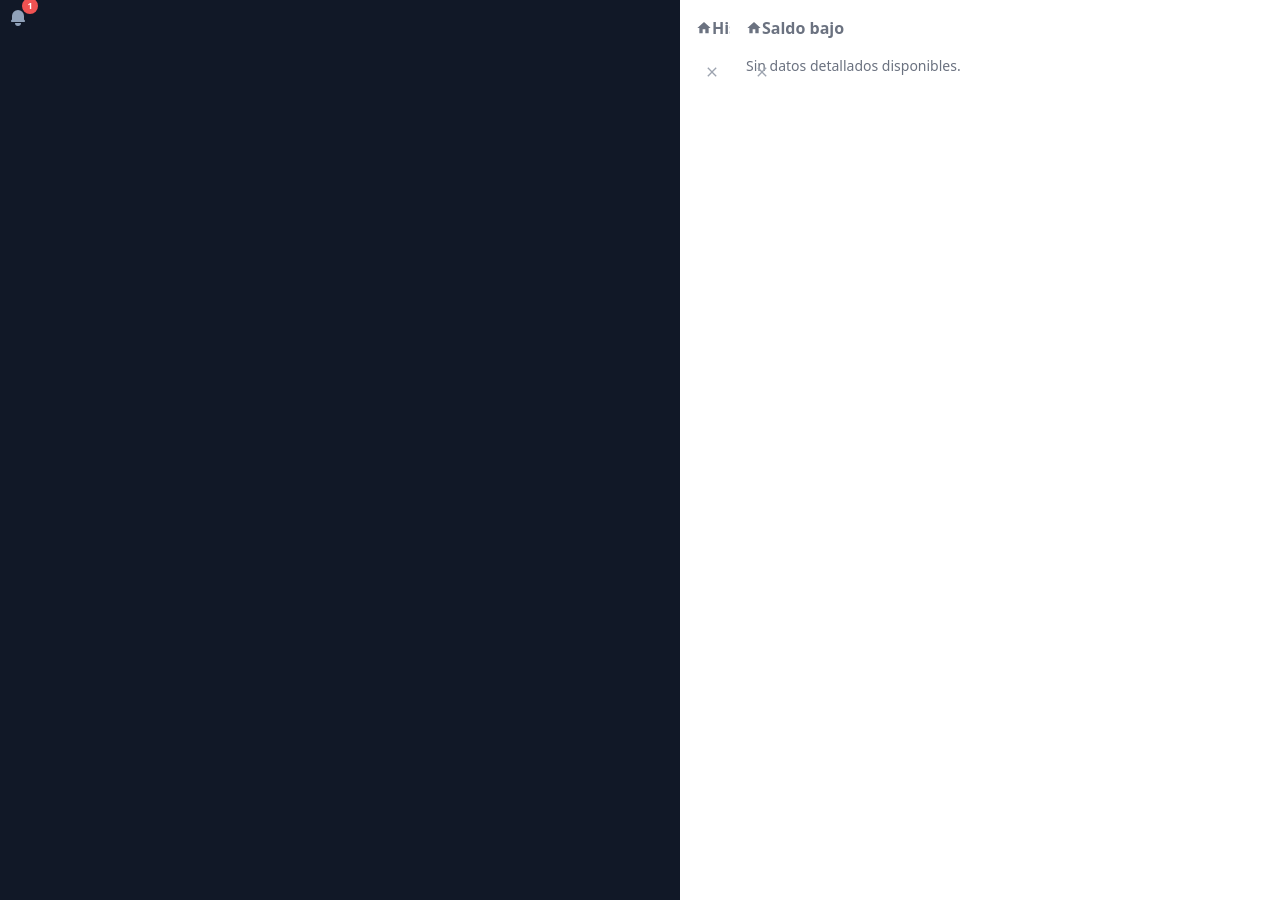
it: NotificationBell › shows mark-all-read button when unread > 0
Click the button "1": (18, 18) 0,0 -> 36,36
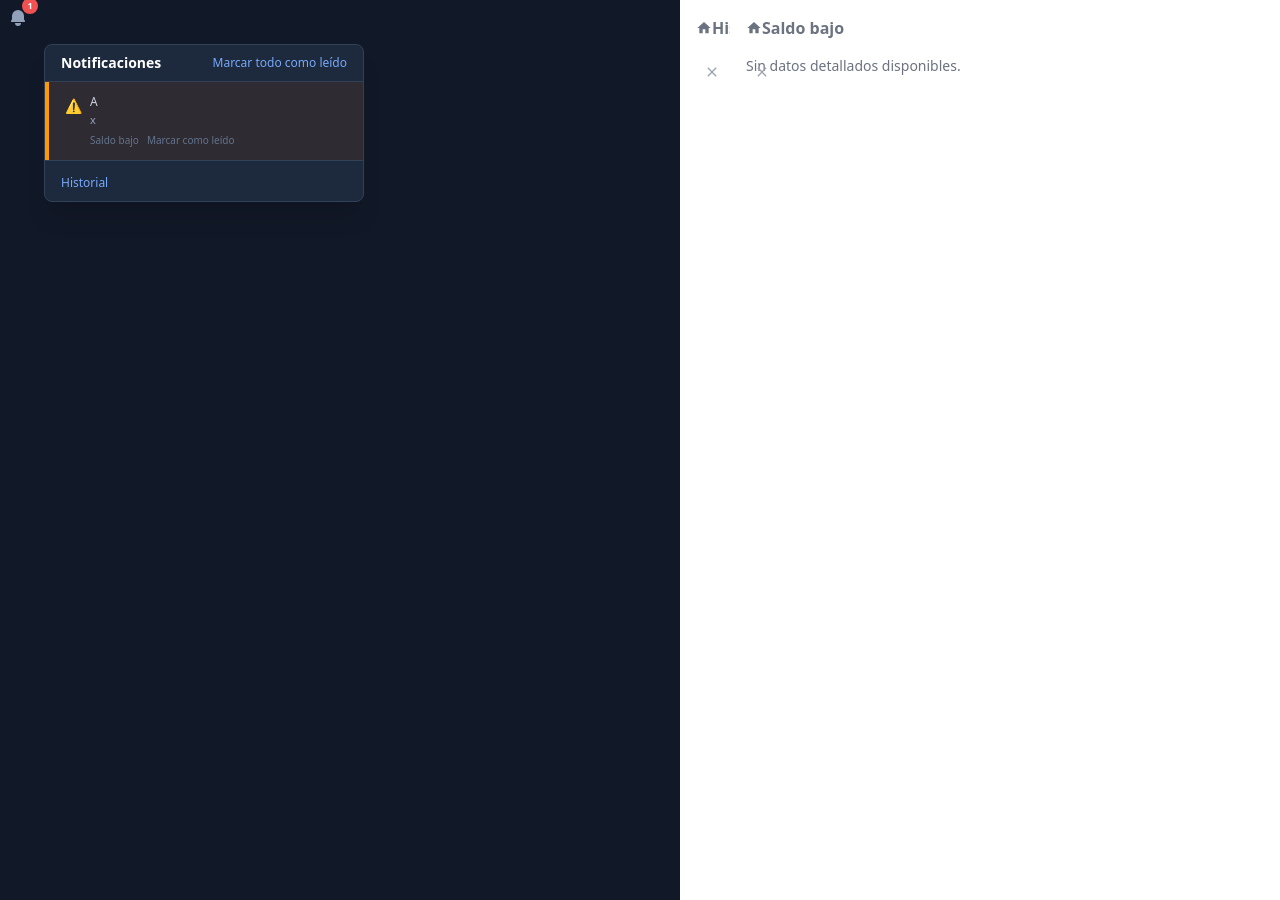
expect the button "Marcar todo como leído" is shown: met, box 212,55 -> 347,71
